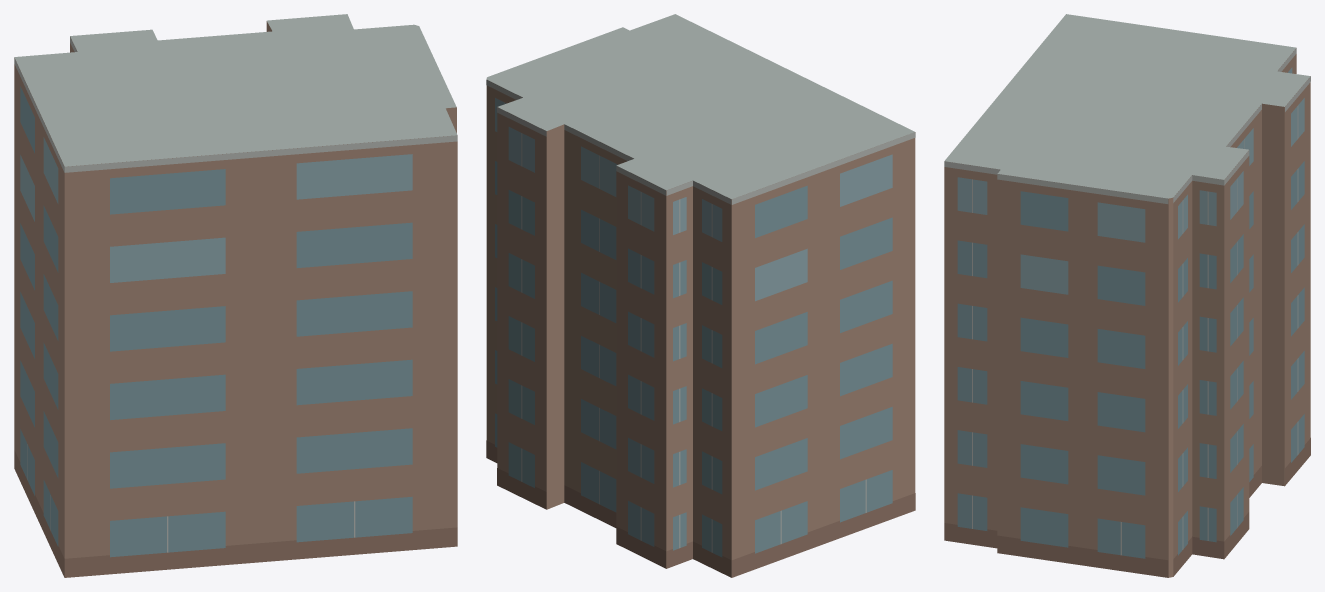
The model's file is survey-upis-32878554.glb.
The picture shows the model from 3 angles, left to right: view 1: azimuth 30°, elevation 25°; view 2: azimuth 150°, elevation 25°; view 3: azimuth 270°, elevation 25°; orthographic projection. The views are drawn at different scales.
Visible parts, largest first — view 1: survey-upis-32878554.tmp; view 2: survey-upis-32878554.tmp; view 3: survey-upis-32878554.tmp.
Boxes of the visible parts, x1,y1,x2,y2 form: survey-upis-32878554.tmp: (14, 14, 457, 577); survey-upis-32878554.tmp: (486, 14, 915, 577); survey-upis-32878554.tmp: (944, 14, 1310, 577).
Size of the model in its own units: 16.97 by 16.25 by 14.24.
